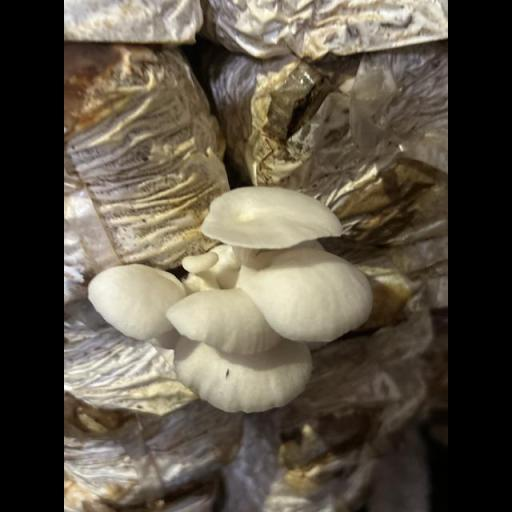White Oyster Mushroom: (84, 184, 376, 417)
